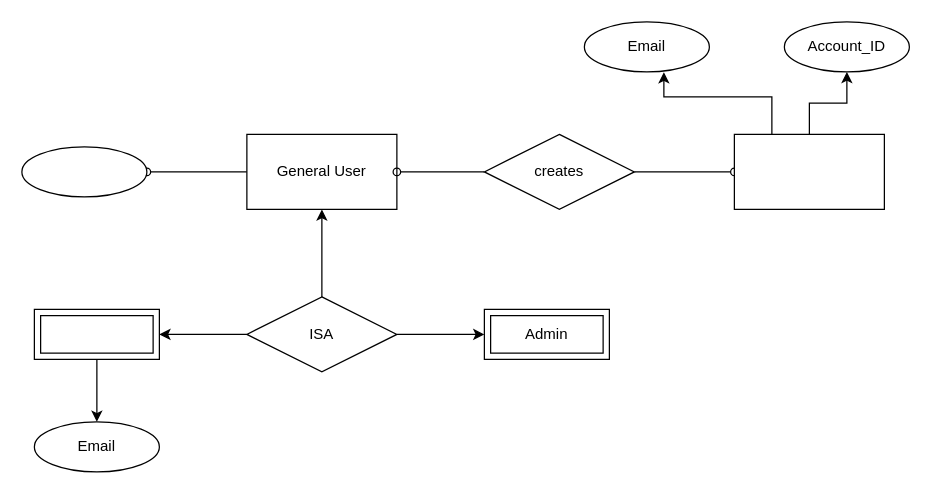
This 931x494 diagram has some shape labels left out. The centre of each missing label's shape, as x and y in pixels:
Account: the point at 808,171
Reg User: the point at 96,333
Tracking_ID: the point at 84,171
